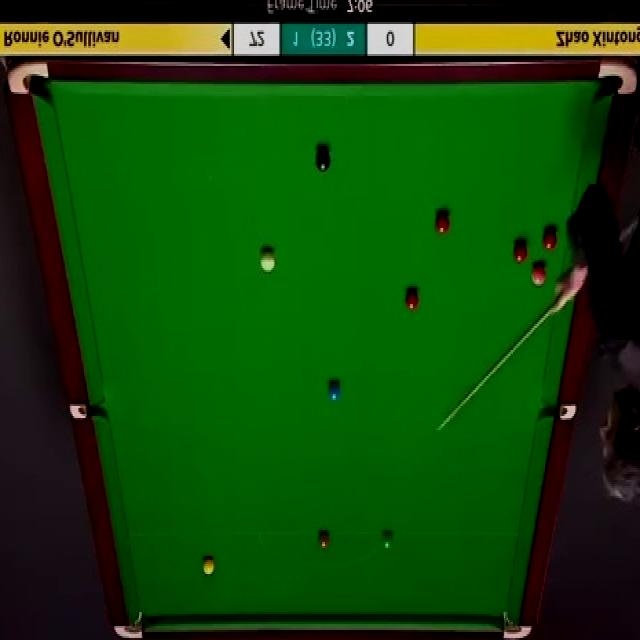black-ball: (315, 149, 331, 175)
blue-ball: (328, 378, 341, 404)
brown-ball: (317, 531, 331, 549)
green-ball: (380, 530, 395, 552)
pink-ball: (530, 263, 546, 285)
red-ball: (404, 284, 422, 312), (433, 208, 451, 233), (542, 229, 557, 251), (513, 244, 528, 264)
white-ball: (260, 244, 277, 274)
yellow-ball: (203, 555, 215, 574)
